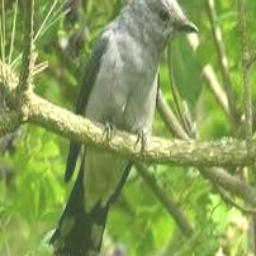Cuckoo: (49, 0, 199, 256)
